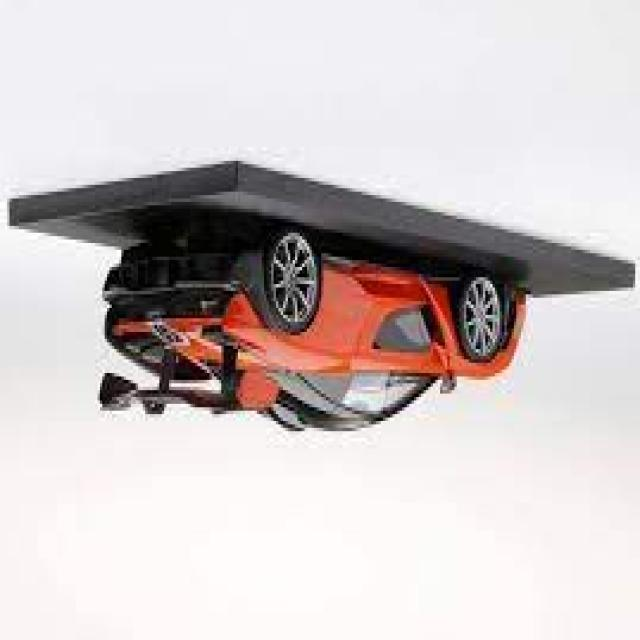Car: (98, 223, 530, 438)
